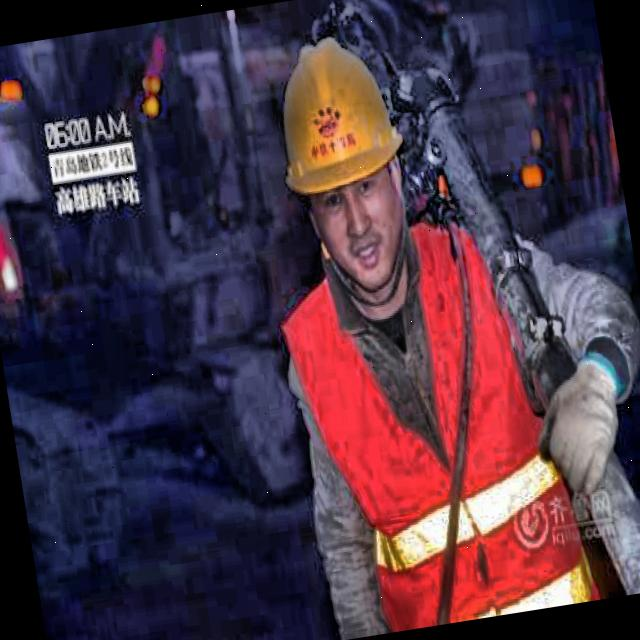helmet: (255, 12, 430, 314)
